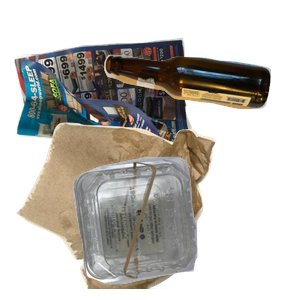glass: (101, 52, 300, 154)
paper: (12, 31, 196, 204)
plastic: (71, 154, 300, 300)
trash: (14, 120, 222, 300)
